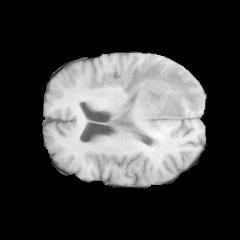glioma: (119, 61, 199, 157)
